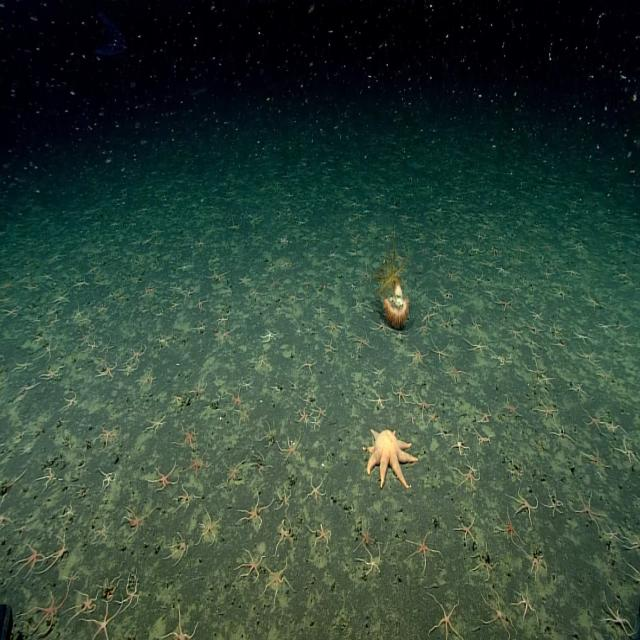brittle-stars: (29, 589, 67, 635), (428, 593, 463, 638), (481, 593, 510, 637), (602, 594, 632, 636), (88, 603, 120, 640), (408, 533, 438, 571), (572, 490, 600, 530), (264, 560, 290, 599), (240, 492, 268, 528), (164, 611, 197, 640), (71, 588, 100, 618), (18, 542, 44, 575), (512, 488, 538, 520), (498, 512, 522, 546), (46, 535, 68, 572), (514, 588, 537, 622), (239, 550, 263, 582), (151, 464, 178, 492), (474, 546, 496, 579), (125, 507, 149, 536), (200, 510, 220, 544), (168, 532, 189, 564), (184, 450, 208, 478), (123, 577, 143, 610), (358, 548, 381, 576), (454, 468, 480, 492), (309, 525, 332, 551), (456, 515, 476, 544), (226, 458, 246, 487), (585, 444, 606, 470), (619, 438, 637, 466), (543, 488, 562, 514), (407, 344, 427, 368), (356, 525, 376, 549), (280, 438, 300, 462), (176, 485, 195, 510), (308, 476, 326, 502), (39, 466, 59, 489), (391, 382, 410, 406), (585, 408, 604, 432), (144, 415, 165, 436), (534, 398, 556, 418), (42, 362, 64, 382), (527, 552, 545, 576), (624, 527, 640, 554), (627, 561, 640, 594), (298, 354, 318, 375), (442, 362, 464, 381), (415, 392, 435, 412), (433, 341, 452, 362), (94, 520, 112, 542), (178, 426, 196, 448), (277, 520, 292, 546), (263, 422, 279, 446), (99, 425, 118, 445), (252, 452, 268, 475), (277, 486, 292, 510), (452, 436, 469, 457), (100, 468, 116, 489), (140, 370, 156, 391), (190, 380, 206, 401), (0, 508, 14, 532), (509, 458, 525, 479), (96, 360, 114, 378), (374, 318, 392, 336), (353, 332, 370, 351), (466, 339, 485, 356), (503, 398, 519, 418), (41, 340, 57, 360), (371, 390, 388, 408), (475, 429, 493, 446), (527, 360, 545, 377), (130, 343, 146, 362), (570, 380, 585, 400), (494, 351, 511, 368), (14, 356, 32, 372), (580, 348, 598, 364), (66, 566, 81, 585), (64, 389, 78, 409), (324, 319, 342, 334), (238, 407, 252, 426), (263, 329, 279, 345), (122, 360, 139, 375), (478, 406, 492, 424), (73, 304, 87, 322), (496, 295, 512, 310), (322, 338, 337, 354), (507, 326, 523, 341), (598, 366, 613, 382), (101, 338, 115, 355), (605, 525, 619, 542), (63, 502, 76, 520), (232, 389, 245, 407), (56, 288, 70, 304), (430, 298, 444, 314), (554, 284, 568, 300), (287, 290, 302, 304), (595, 322, 610, 336), (219, 326, 232, 342), (296, 408, 308, 425), (598, 319, 612, 333), (216, 312, 229, 327), (570, 241, 585, 254), (358, 266, 370, 282), (98, 302, 110, 318), (315, 406, 328, 420), (241, 378, 254, 392), (574, 330, 587, 344), (417, 322, 431, 335), (528, 322, 541, 336), (196, 298, 208, 313), (565, 268, 580, 280), (606, 419, 618, 434), (158, 335, 170, 350), (303, 392, 315, 407), (88, 338, 100, 353), (469, 243, 482, 256), (314, 305, 328, 317), (144, 283, 156, 297), (249, 285, 261, 299), (422, 310, 434, 324), (471, 317, 481, 333), (170, 300, 182, 313), (541, 376, 554, 388), (240, 274, 252, 286), (311, 416, 321, 430), (531, 310, 542, 322), (394, 332, 406, 343), (170, 282, 181, 293), (293, 323, 302, 336)
